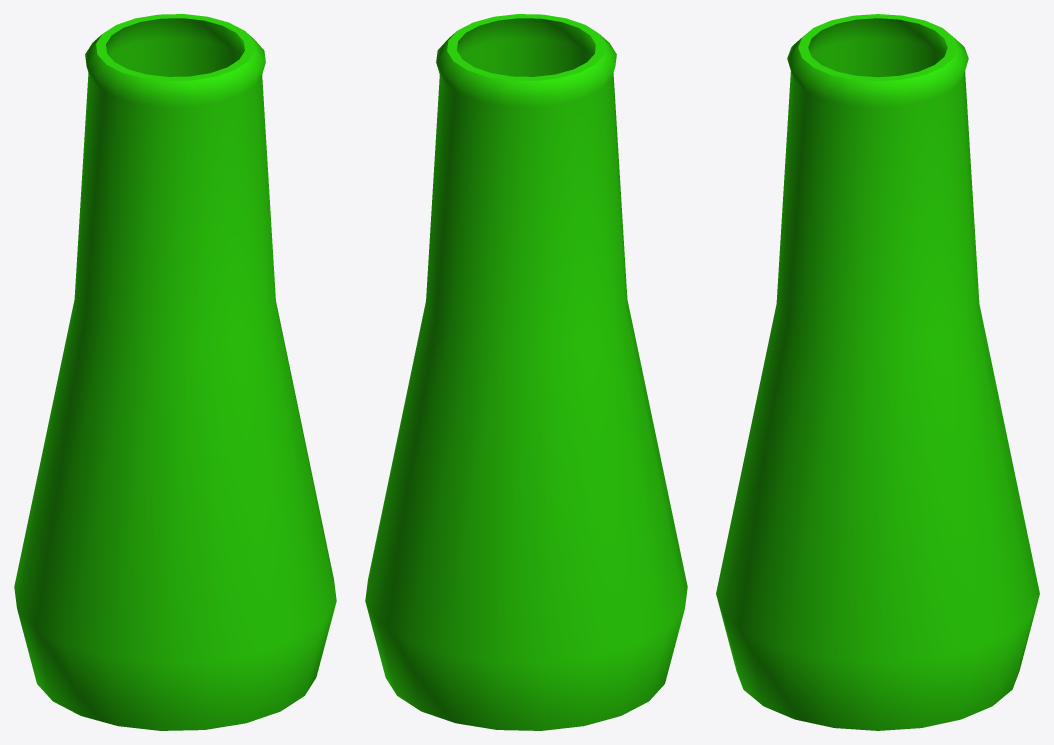
File: Vase_03.fbx
The picture shows the model from 3 angles, left to right: view 1: azimuth 30°, elevation 25°; view 2: azimuth 150°, elevation 25°; view 3: azimuth 270°, elevation 25°; orthographic projection.
Visible parts, largest first — view 1: Vase_03; view 2: Vase_03; view 3: Vase_03.
Part boxes in pixels (x1=…): Vase_03: x1=14, y1=14, x2=336, y2=730; Vase_03: x1=365, y1=14, x2=687, y2=730; Vase_03: x1=716, y1=14, x2=1039, y2=730.
Size of the model in its own units: 14.36 by 30.49 by 14.36.
